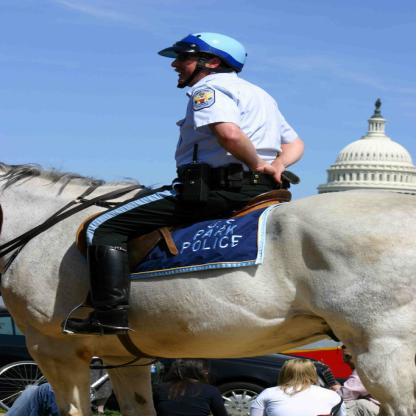Helmet: (154, 30, 255, 86)
